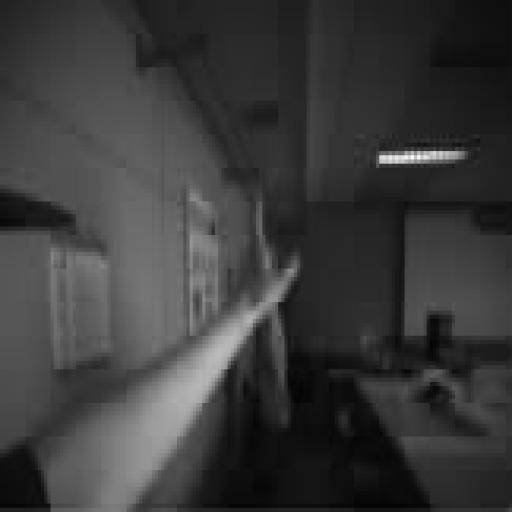human: (0, 261, 300, 511)
